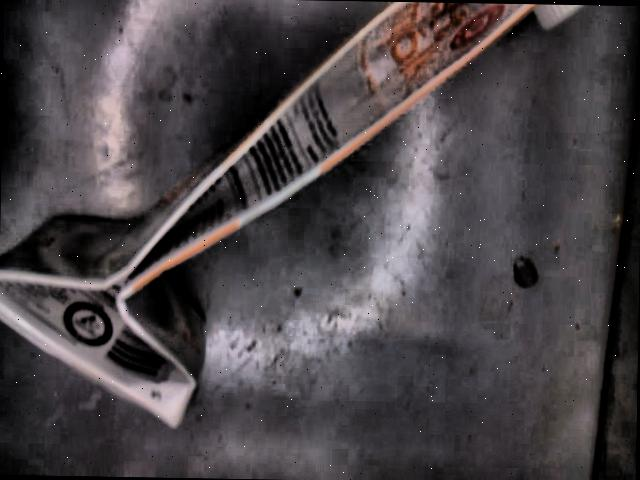Paper: (0, 1, 577, 430)
